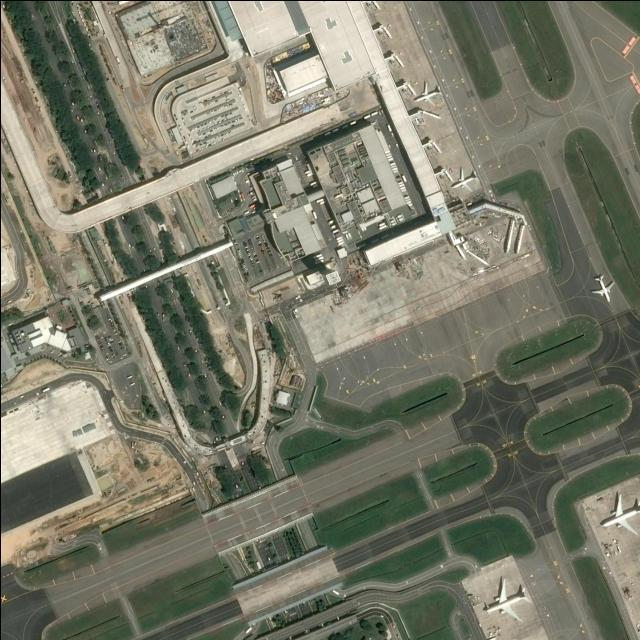Aircraft: (484, 578, 529, 625), (600, 493, 640, 538), (412, 82, 442, 107), (591, 273, 615, 303), (450, 168, 478, 192)
